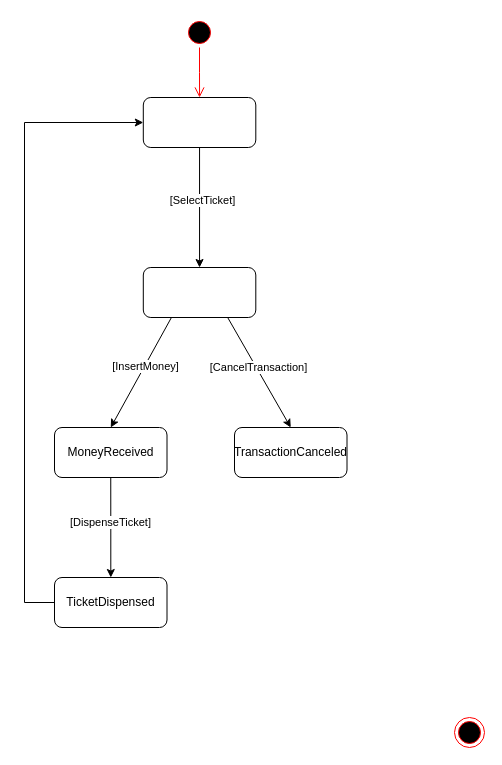
The diagram is 502 pixels wide and 765 high, and some of its shapes have lost their labels. Each missing label, with the box of its shape:
Idle: (142, 96, 256, 148)
WaitingForMoney: (142, 266, 256, 318)
